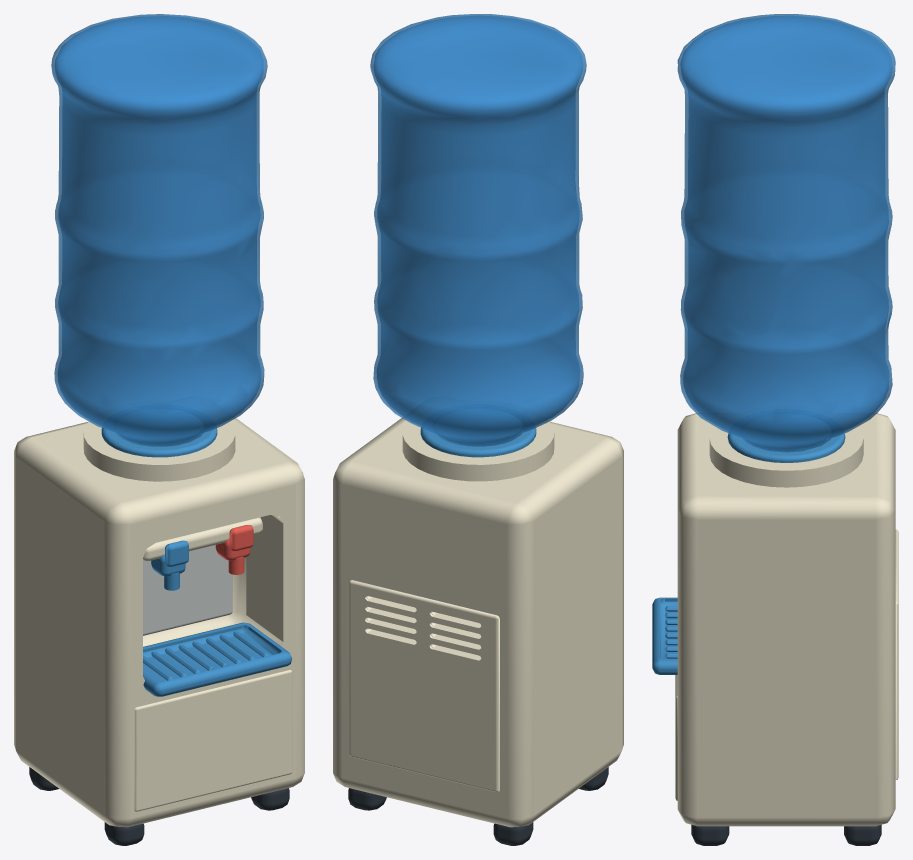
Rendered from water_dispenser_mobile.glb.
3 renders of one model, left to right at view 1: azimuth 30°, elevation 25°; view 2: azimuth 150°, elevation 25°; view 3: azimuth 270°, elevation 25°, orthographic.
Visible parts, largest first — view 1: Large inverted ribbed water bottle_export, Rounded cream enclosure_export, Lower front service panel_export, Cup bay back liner_export, Blue drip tray_export, Bottle socket_export, Blue socket gasket_export, Tap mounting ledge_export, Rounded rubber foot_export, Rounded rubber foot.002_export, Hot push paddle_export, Cold push paddle_export; view 2: Large inverted ribbed water bottle_export, Rounded cream enclosure_export, Rear service cover_export, Bottle socket_export, Blue socket gasket_export, Rounded rubber foot.001_export, Rounded rubber foot.003_export; view 3: Large inverted ribbed water bottle_export, Rounded cream enclosure_export, Bottle socket_export, Blue socket gasket_export, Blue drip tray_export, Rear service cover_export, Rounded rubber foot.002_export, Rounded rubber foot.003_export.
Boxes of the visible parts, x1,y1,x2,y2 form: Large inverted ribbed water bottle_export: (51, 14, 267, 446); Rounded cream enclosure_export: (14, 417, 304, 827); Lower front service panel_export: (134, 670, 292, 811); Cup bay back liner_export: (143, 545, 232, 635); Blue drip tray_export: (143, 622, 291, 696); Bottle socket_export: (83, 420, 235, 481); Blue socket gasket_export: (101, 409, 217, 457); Tap mounting ledge_export: (143, 517, 262, 560); Rounded rubber foot_export: (104, 822, 144, 845); Rounded rubber foot.002_export: (251, 788, 289, 810); Hot push paddle_export: (229, 525, 253, 550); Cold push paddle_export: (165, 540, 188, 566); Large inverted ribbed water bottle_export: (370, 14, 586, 446); Rounded cream enclosure_export: (333, 417, 623, 827); Rear service cover_export: (349, 580, 499, 791); Bottle socket_export: (402, 420, 554, 481); Blue socket gasket_export: (420, 408, 536, 457); Rounded rubber foot.001_export: (493, 822, 533, 845); Rounded rubber foot.003_export: (348, 788, 386, 810); Large inverted ribbed water bottle_export: (677, 14, 895, 452); Rounded cream enclosure_export: (677, 413, 895, 826); Bottle socket_export: (709, 425, 863, 487); Blue socket gasket_export: (727, 414, 845, 462); Blue drip tray_export: (652, 597, 677, 674); Rear service cover_export: (895, 529, 898, 779); Rounded rubber foot.002_export: (691, 824, 729, 845); Rounded rubber foot.003_export: (844, 825, 881, 845).
Bounding box in the file's own units: 0.32 × 1.15 × 0.3395.
